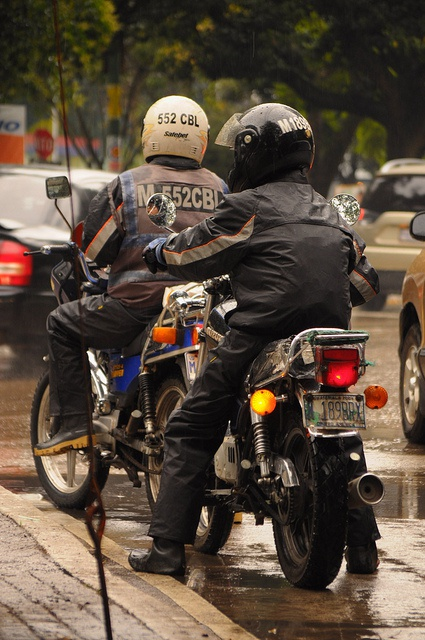non-vehicle: (140, 290, 388, 588), (20, 172, 187, 517)
